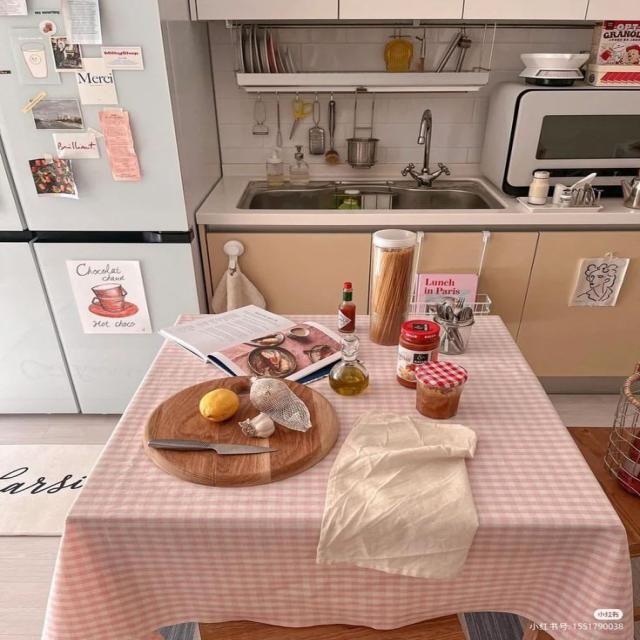obstacle: (40, 311, 635, 639), (0, 0, 223, 416)
